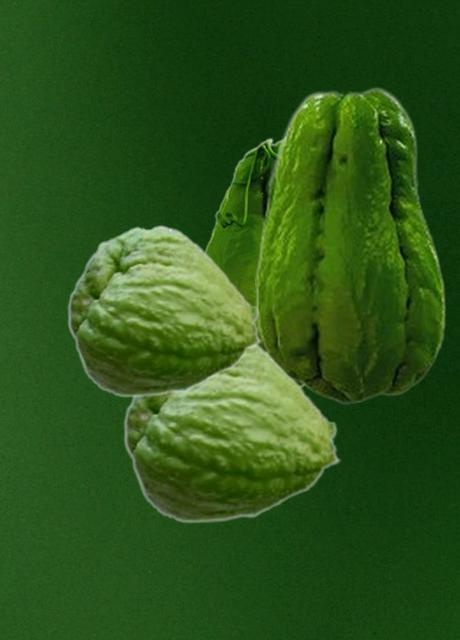sayote: (255, 86, 445, 404), (123, 344, 341, 523), (67, 224, 262, 397), (205, 137, 303, 386)
